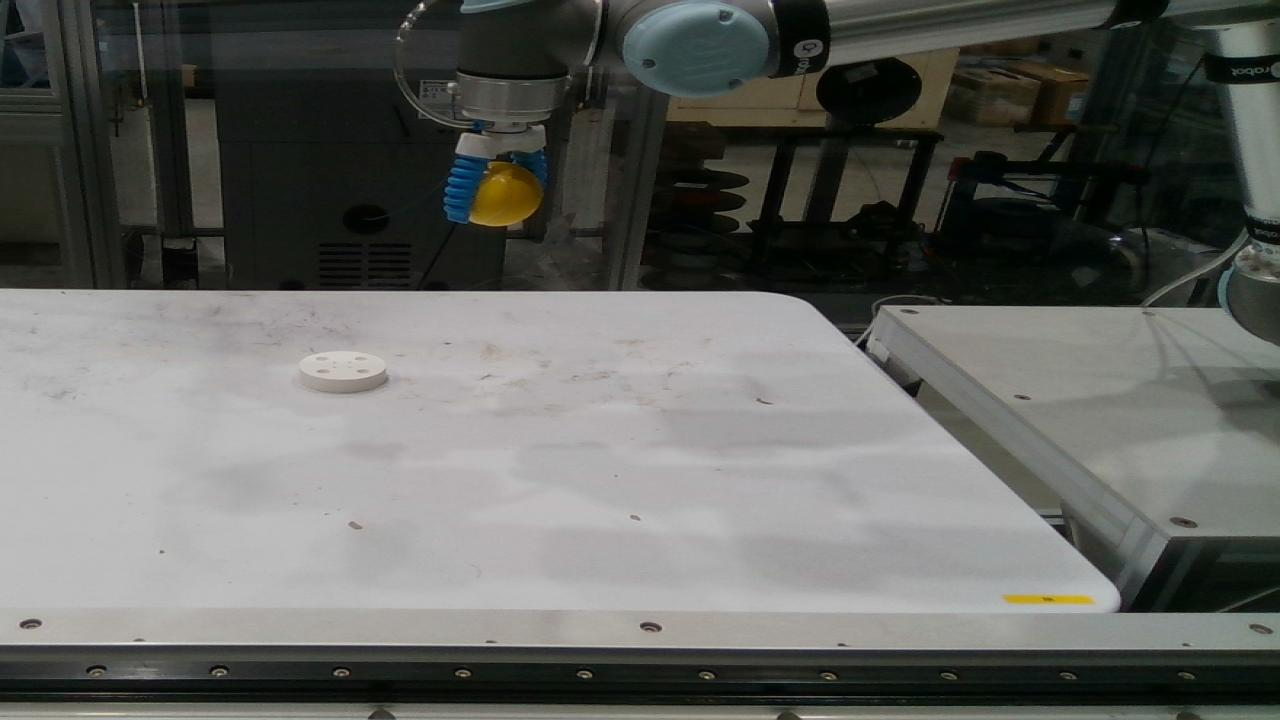UR5: (455, 0, 1279, 344)
gripper_left: (511, 148, 547, 185)
gripper_right: (443, 154, 494, 223)
target: (470, 162, 541, 226), (299, 351, 388, 394)
